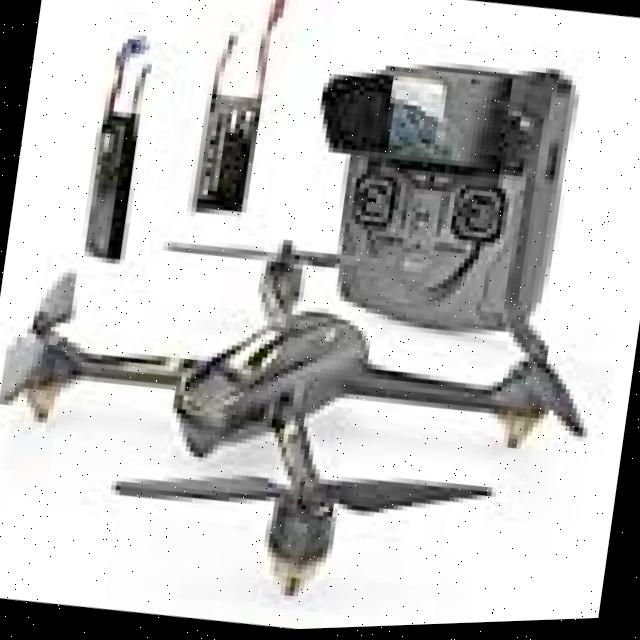drone: (0, 199, 627, 640)
